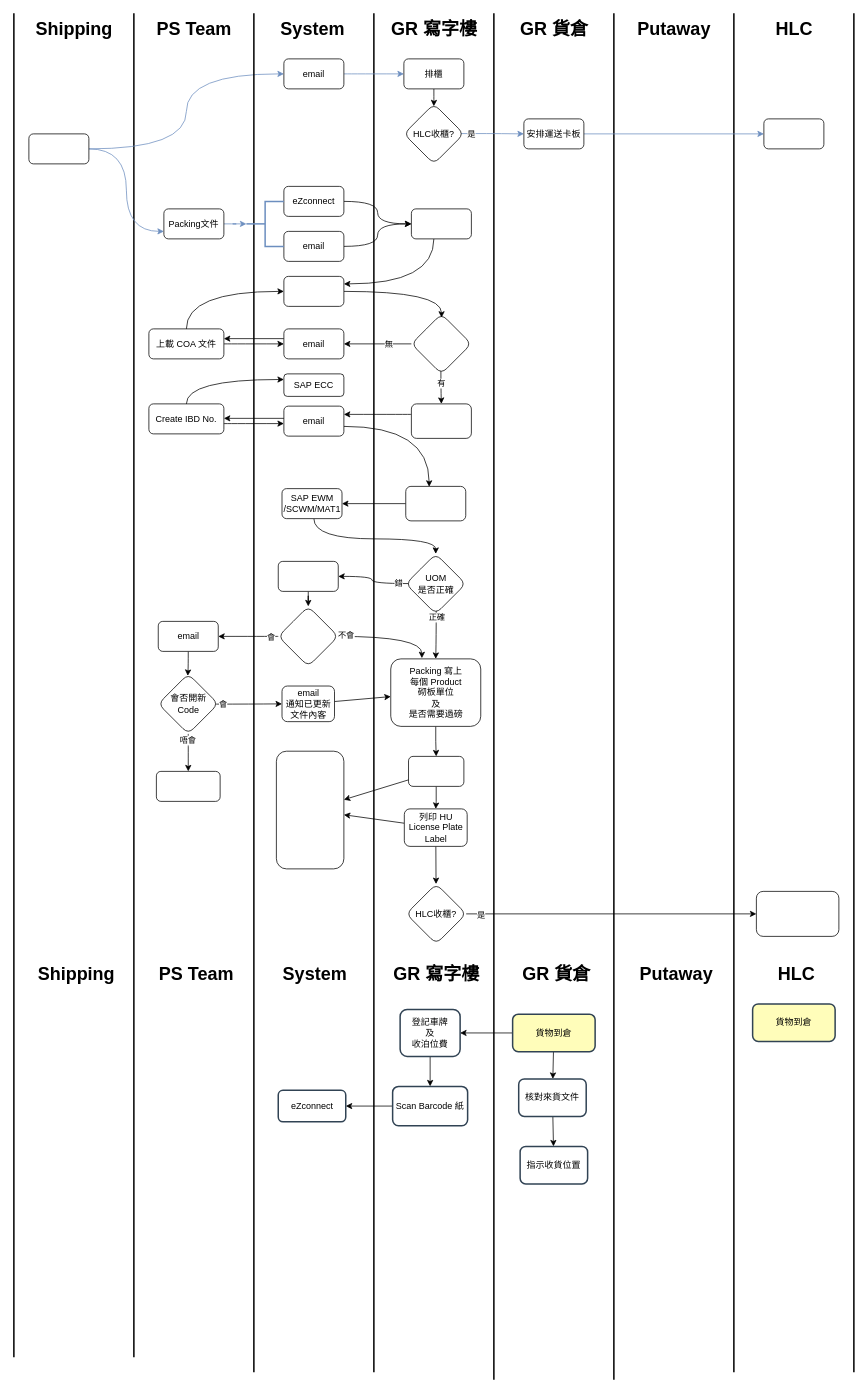
The diagram is 867 pixels wide and 1392 high, and some of its shapes have lost their labels. The centre of each missing label's shape, as x and y in pixels:
COA website: pixel 313 291
Create Batch & Expiration: pixel 436 771
SAP EWM /SCWM/PRDI: pixel 310 809
接收 HU Label 及 Case Label: pixel 797 913
接收卡板: pixel 793 133
收貨後 將不會入數: pixel 188 786
會否影響 現有存貨: pixel 308 636
有無COA?: pixel 441 343
檢查文件 有無 COA: pixel 441 223
檢查文件 有無 IBD: pixel 441 420
檢查貨倉庫存 SAP EWM: pixel 308 576
遂個 Product 檢查 UOM: pixel 435 503
預計返櫃日期: pixel 58 148
